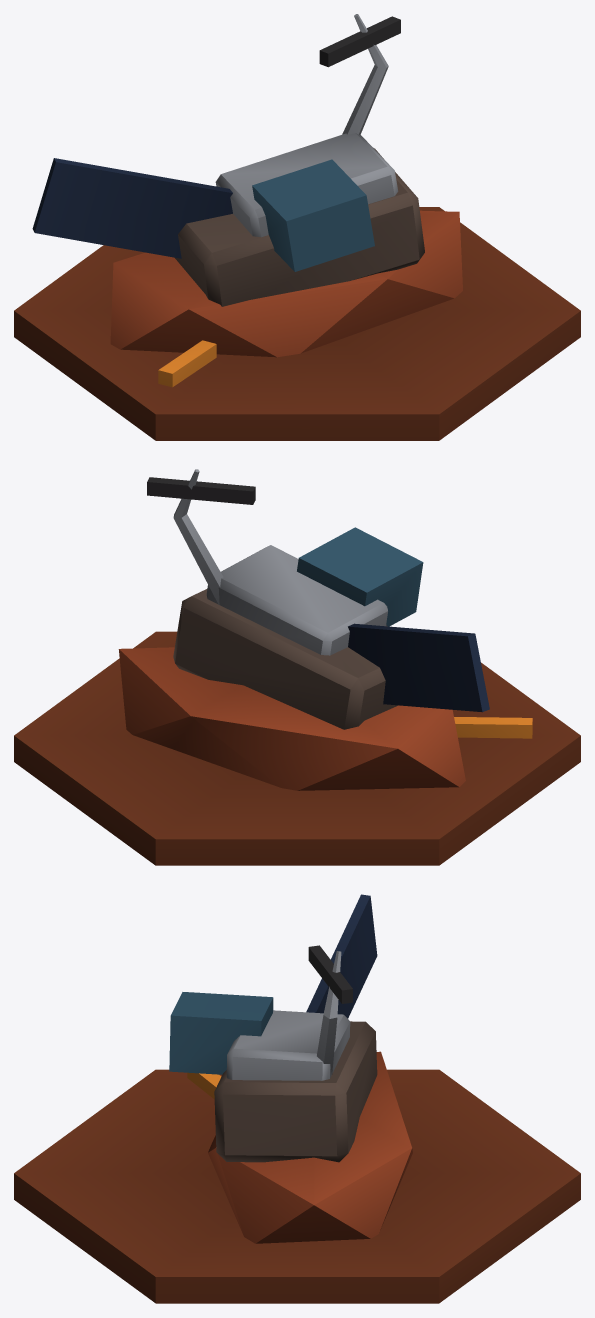
File: ruin_ancient.glb
3 views of the same model, one above another, from view 1: azimuth 30°, elevation 25°; view 2: azimuth 150°, elevation 25°; view 3: azimuth 270°, elevation 25° (orthographic).
Visible parts, largest first — view 1: ruin_ancient; view 2: ruin_ancient; view 3: ruin_ancient.
Boxes of the visible parts, <box> form: ruin_ancient: <box>14,14,580,440</box>; ruin_ancient: <box>14,469,580,865</box>; ruin_ancient: <box>14,894,580,1303</box>.
Bounding box in the file's own units: 0.6097 × 0.3852 × 0.68.
